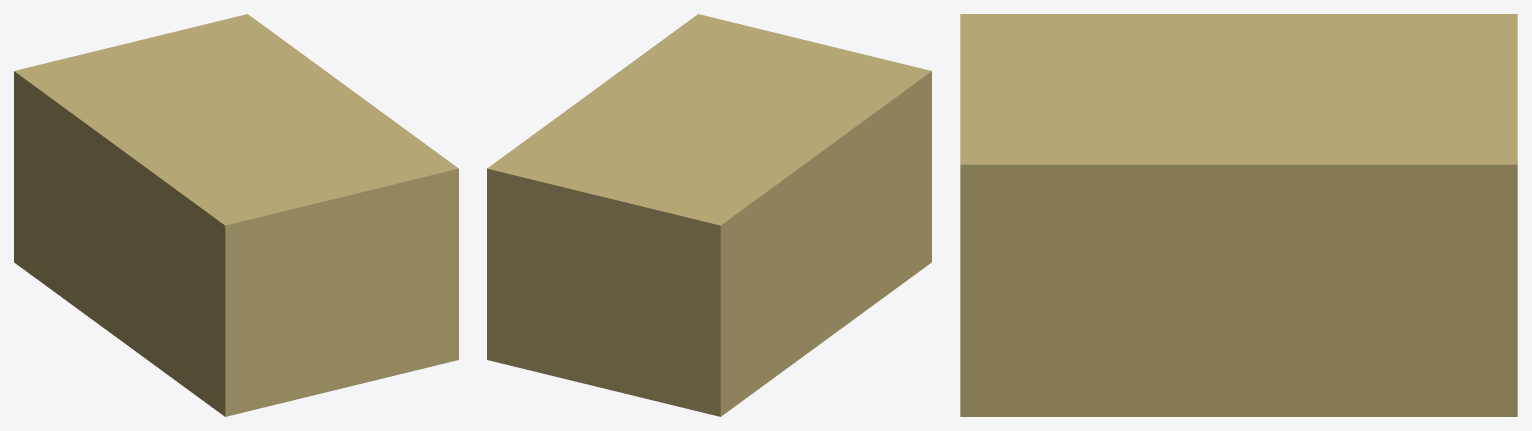
3 renders of one model, left to right at view 1: azimuth 30°, elevation 25°; view 2: azimuth 150°, elevation 25°; view 3: azimuth 270°, elevation 25°, orthographic. The views are drawn at different scales.
Visible parts, largest first — view 1: RUN-000-S01-NOG-05; view 2: RUN-000-S01-NOG-05; view 3: RUN-000-S01-NOG-05.
Part boxes in pixels (x1=…): RUN-000-S01-NOG-05: x1=14, y1=14, x2=458, y2=416; RUN-000-S01-NOG-05: x1=487, y1=14, x2=931, y2=416; RUN-000-S01-NOG-05: x1=960, y1=14, x2=1517, y2=416.
Bounding box in the file's own units: 0.0575 × 0.045 × 0.09.
